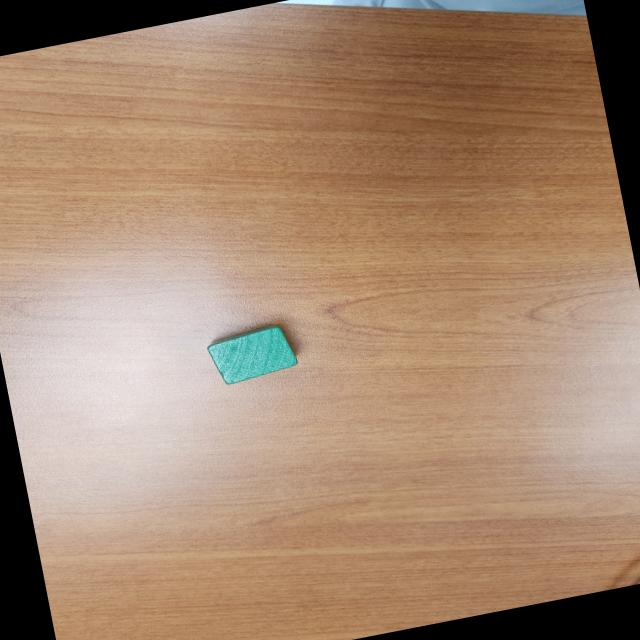green: (203, 322, 298, 387)
